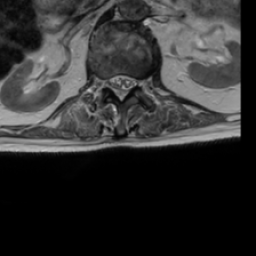CCS_normal: (117, 70, 125, 106)
LFS_normal: (135, 72, 142, 94)
LLS_normal: (126, 70, 134, 99)
RFS_normal: (101, 72, 108, 92)
RLS_normal: (109, 70, 117, 99)
